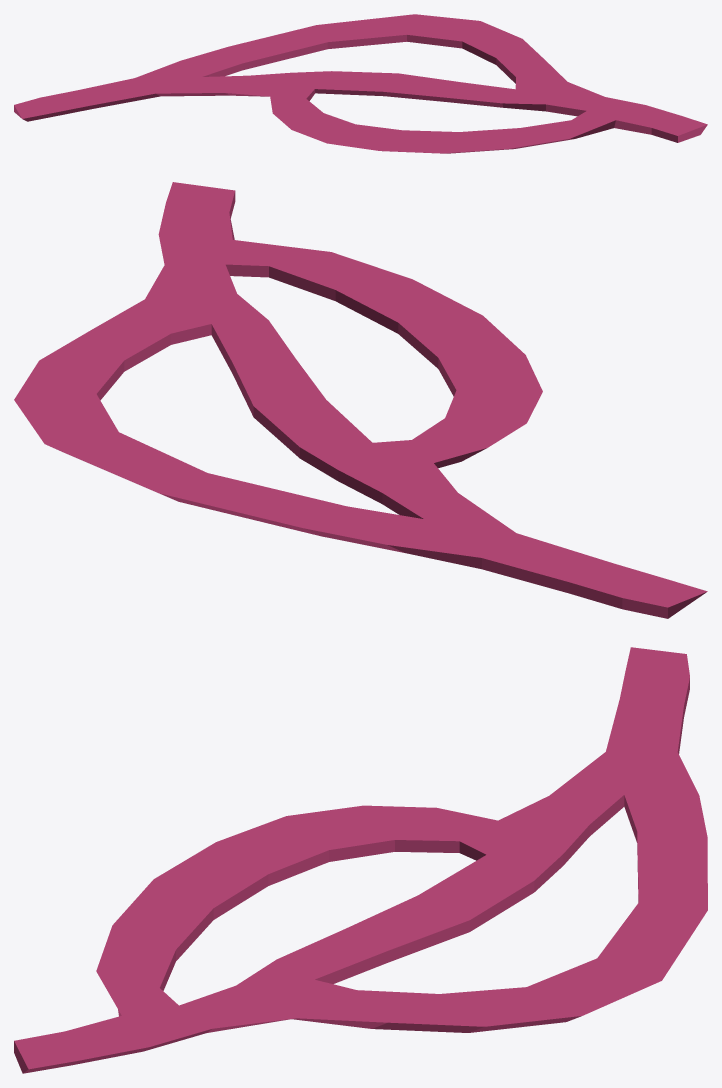
The model's file is yol8 (1).fbx.
3 views of the same model, one above another, from view 1: azimuth 30°, elevation 25°; view 2: azimuth 150°, elevation 25°; view 3: azimuth 270°, elevation 25° (orthographic). The views are drawn at different scales.
Visible parts, largest first — view 1: Plane.024; view 2: Plane.024; view 3: Plane.024.
Part boxes in pixels (x1,y1,x2,y2): Plane.024: (14,14,707,153); Plane.024: (14,182,707,618); Plane.024: (14,647,707,1073).
Bounding box in the file's own units: 3703 × 48.73 × 2572.
